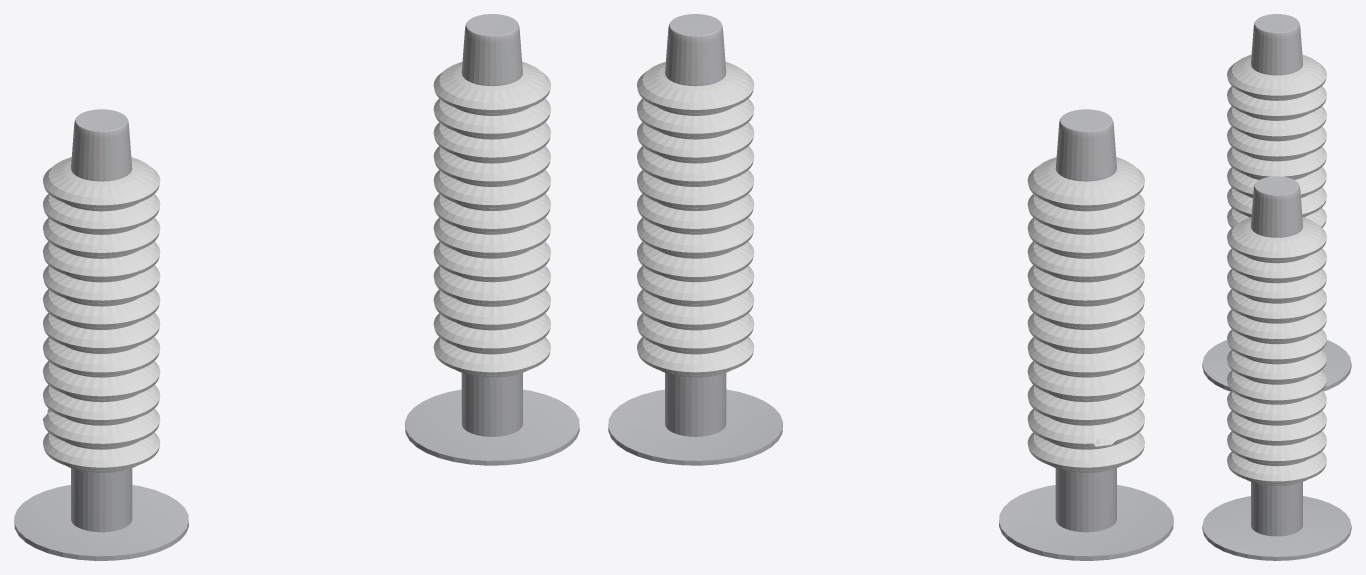
Rendered from izol1_defect.fbx.
The picture shows the model from 3 angles, left to right: view 1: azimuth 30°, elevation 25°; view 2: azimuth 150°, elevation 25°; view 3: azimuth 270°, elevation 25°; orthographic projection. The views are drawn at different scales.
Parts seen in each view (by area): view 1: Cone, Cylinder.089; view 2: Cone, Cylinder.089; view 3: Cone, Cylinder.089.
Part boxes in pixels (x1,y1,x2,y2): Cone: (42, 61, 550, 473); Cylinder.089: (14, 14, 579, 560); Cone: (637, 61, 1144, 473); Cylinder.089: (608, 14, 1173, 560); Cone: (1227, 54, 1326, 486); Cylinder.089: (1202, 14, 1351, 560).
Bounding box in the file's own units: 180 × 131 × 50.25.
Materials: 2 (1 with a texture image).
